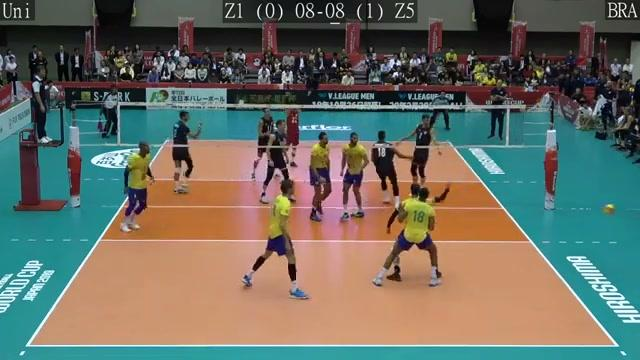ball: (603, 202, 615, 215)
